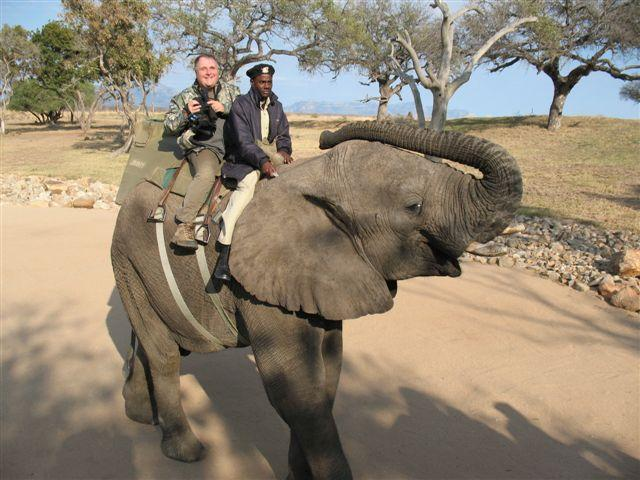elephant: (73, 115, 525, 480)
